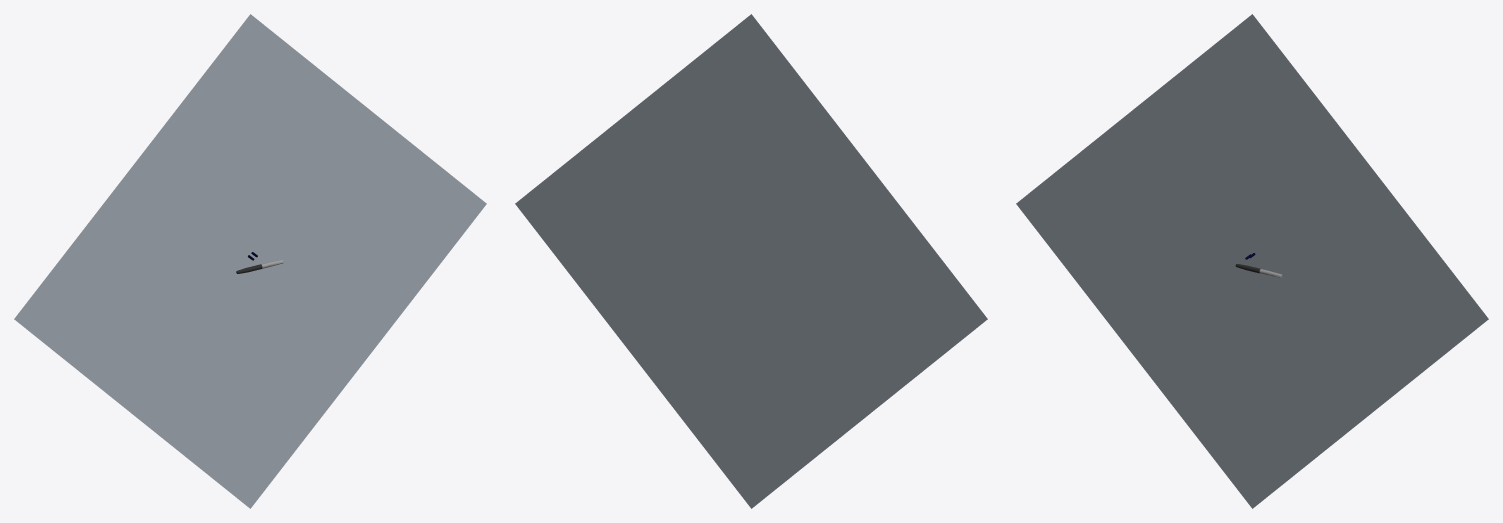
File: Pen.fbx
3 renders of one model, left to right at view 1: azimuth 30°, elevation 25°; view 2: azimuth 150°, elevation 25°; view 3: azimuth 330°, elevation 25°, orthographic.
Parts seen in each view (by area): view 1: 3DSMesh_5; view 2: 3DSMesh_5; view 3: 3DSMesh_5.
Boxes of the visible parts, bbox=[...] form: 3DSMesh_5: bbox=[14, 14, 486, 508]; 3DSMesh_5: bbox=[515, 14, 987, 508]; 3DSMesh_5: bbox=[1016, 14, 1488, 508].
Bounding box in the file's own units: 295 × 295 × 5.36.
